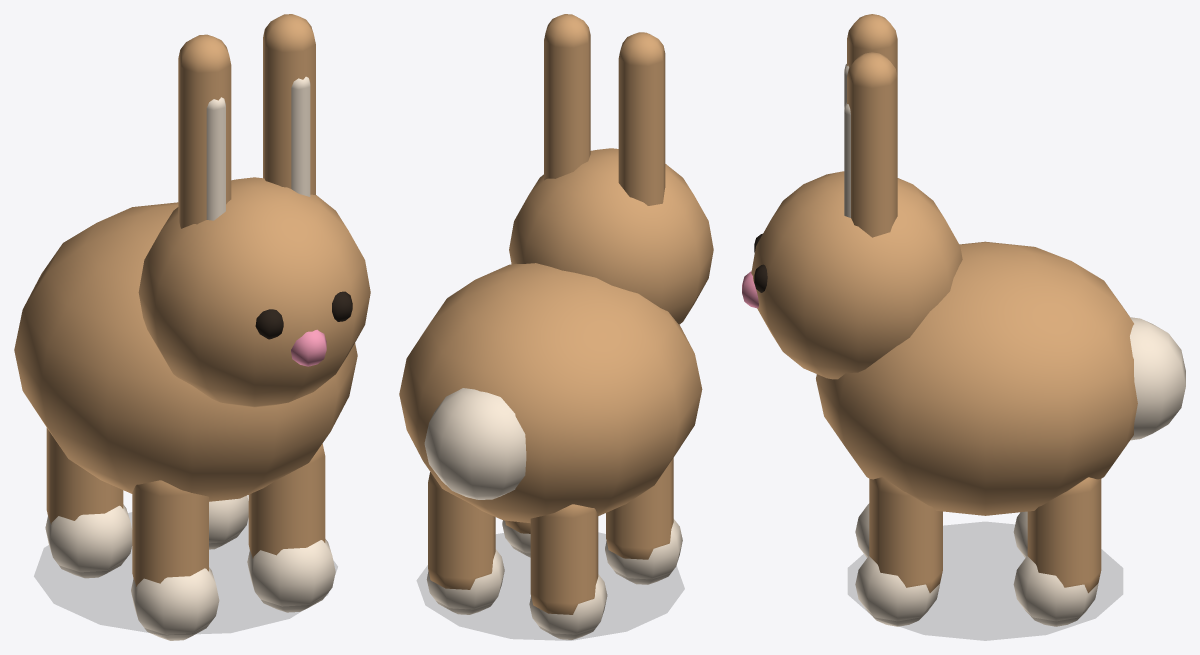
File: bunny.glb
3 views of the same model, side by side, from view 1: azimuth 30°, elevation 25°; view 2: azimuth 150°, elevation 25°; view 3: azimuth 270°, elevation 25° (orthographic). The views are drawn at different scales.
Parts seen in each view (by area): view 1: Head, object 5, Leg_1, Leg_3, object 8, Leg_0, Leg_2; view 2: object 5, Head, object 8, Tail, Leg_0, Leg_2, Leg_1, Leg_3; view 3: object 5, Head, object 8, Leg_2, Leg_3, Tail.
Boxes of the visible parts, left/top/right/bottom form: Head: left=138, top=14, right=370, bottom=407; object 5: left=14, top=202, right=357, bottom=501; Leg_1: left=131, top=480, right=219, bottom=640; Leg_3: left=247, top=444, right=335, bottom=612; object 8: left=34, top=512, right=337, bottom=634; Leg_0: left=45, top=428, right=132, bottom=578; Leg_2: left=209, top=495, right=248, bottom=549; object 5: left=399, top=263, right=702, bottom=523; Head: left=509, top=14, right=713, bottom=324; object 8: left=417, top=533, right=684, bottom=640; Tail: left=424, top=388, right=526, bottom=499; Leg_0: left=529, top=504, right=607, bottom=639; Leg_2: left=426, top=472, right=504, bottom=614; Leg_1: left=605, top=458, right=682, bottom=584; Leg_3: left=502, top=520, right=530, bottom=557; object 5: left=816, top=241, right=1137, bottom=515; Head: left=742, top=14, right=962, bottom=379; object 8: left=848, top=522, right=1122, bottom=640; Leg_2: left=1013, top=477, right=1101, bottom=626; Leg_3: left=855, top=477, right=942, bottom=626; Tail: left=1130, top=317, right=1185, bottom=440.
Size of the model in its own units: 11 by 21.9 by 15.7.
